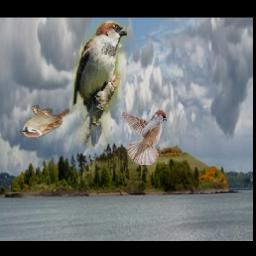Sparrow: (71, 20, 127, 148), (121, 111, 167, 166), (20, 106, 69, 138)
